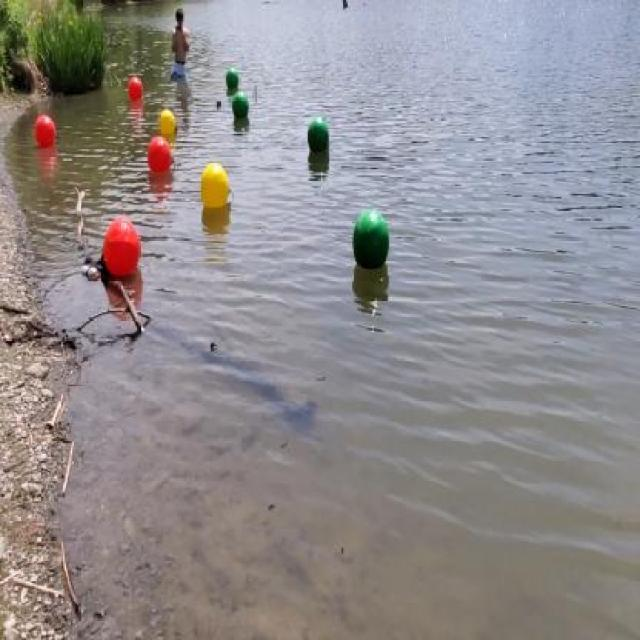buoy: (96, 212, 141, 278), (352, 206, 390, 272), (198, 160, 236, 209), (147, 133, 176, 175), (306, 114, 332, 157), (33, 109, 58, 151), (158, 106, 178, 140), (126, 72, 143, 101), (234, 90, 248, 124), (226, 64, 240, 92)
